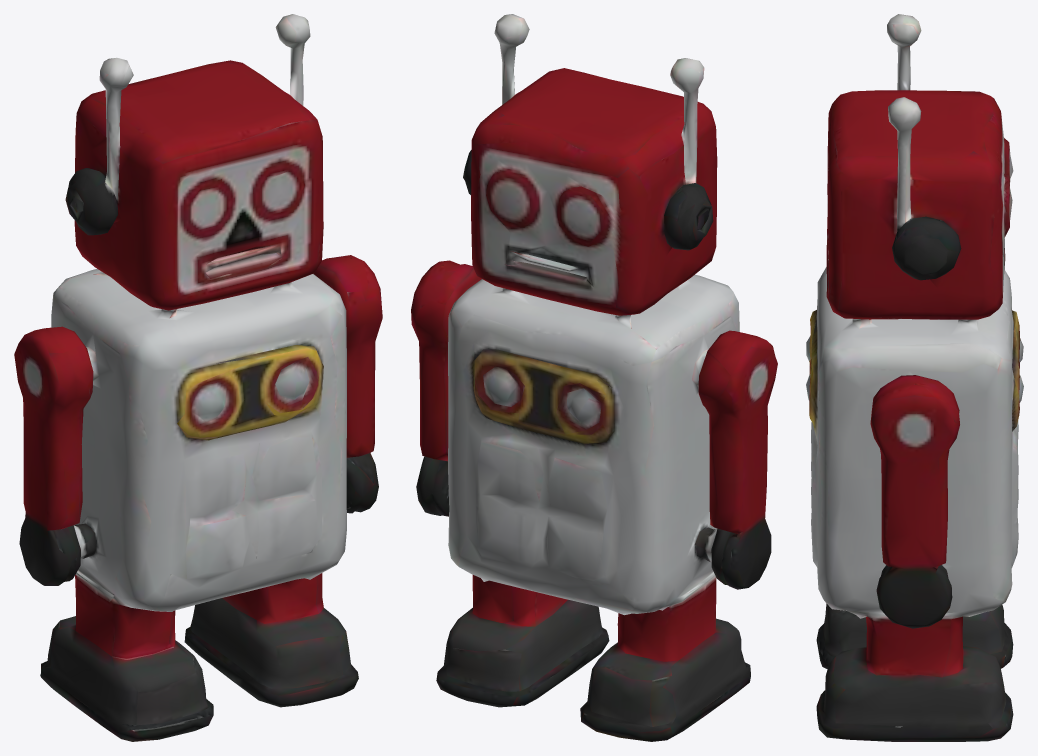
The model's file is robot.glb.
The picture shows the model from 3 angles, left to right: view 1: azimuth 30°, elevation 25°; view 2: azimuth 150°, elevation 25°; view 3: azimuth 270°, elevation 25°; orthographic projection. The views are drawn at different scales.
Bounding box in the file's own units: 0.5374 × 1 × 0.3147.
1 material, 1 textured.
